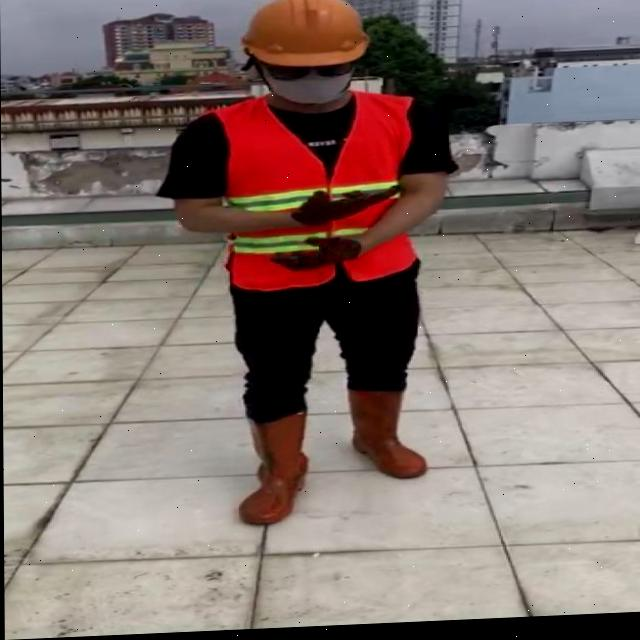Gloves: (290, 187, 404, 229), (269, 238, 362, 275)
Helmet: (241, 0, 371, 72)
Safety-Boot: (238, 411, 310, 528), (348, 386, 427, 484)
Safety-Vest: (202, 91, 419, 296)
